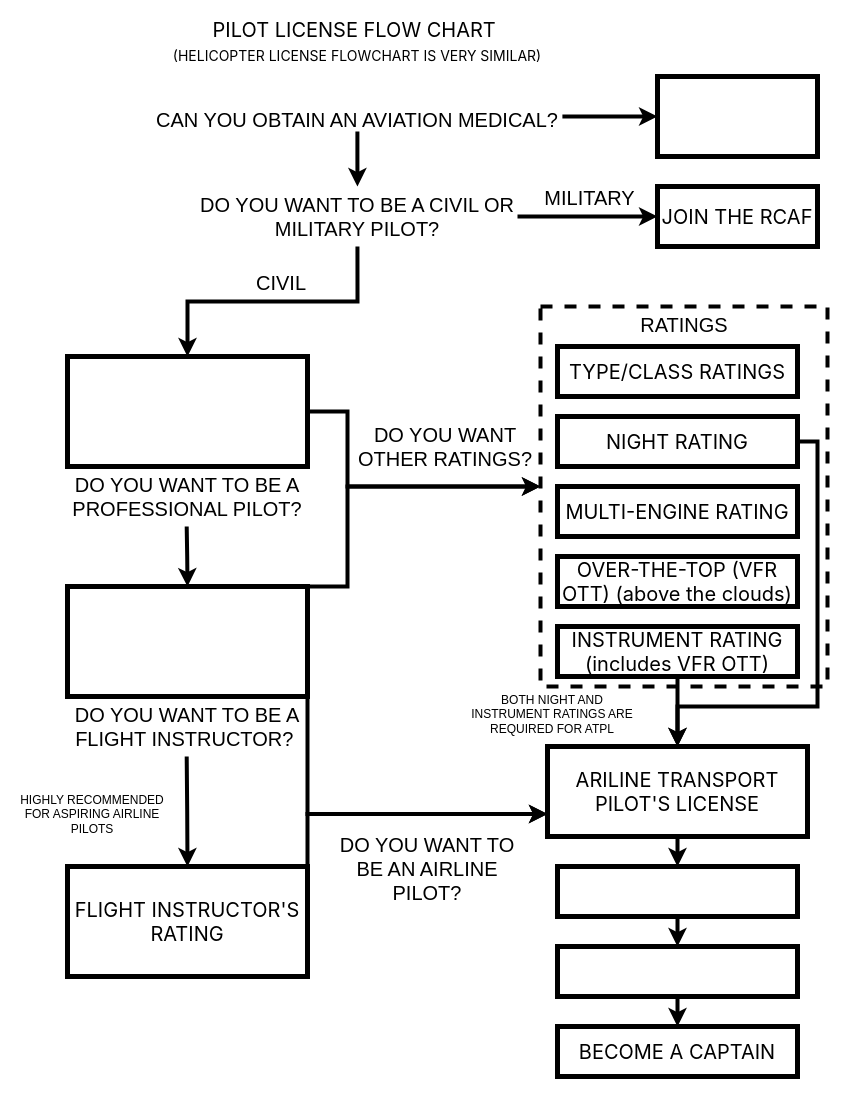
Image size: 846x1096. Some labels were removed from this diagram. Here are the shapes that lost their labels. From the top down, the centre of each, then its label:
At (x=737, y=116): "CONSULT A MEDICAL PROFESSIONAL".
At (x=187, y=411): "PRIVATE PILOT'S LICENSE (PPL)".
At (x=187, y=641): "COMMERCIAL PILOT'S LICENSE (CPL)".
At (x=677, y=891): "IATRA WRITTEN EXAM".
At (x=677, y=971): "BECOME A FIRST-OFFICER (CO-PILOT)".
